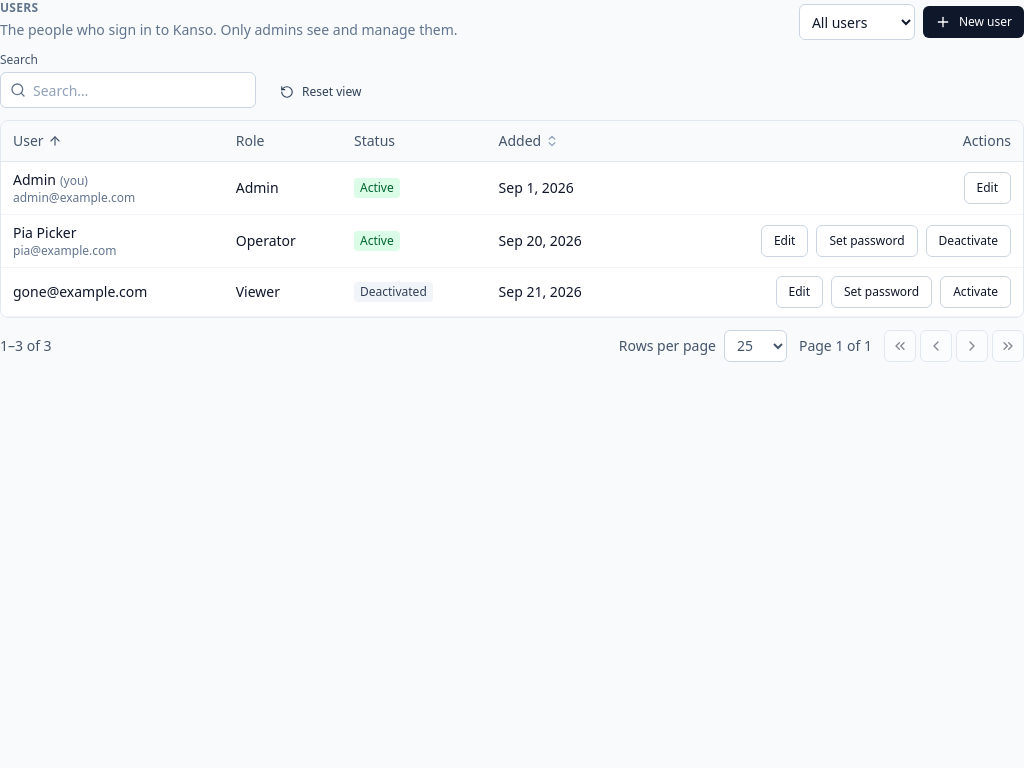
Scenario: User settings › explains a refused deactivation in words
The width and height of the screenshot is (1024, 768).
Click the button with aria-label "Deactivate Pia Picker" at (968,240), box left=926, top=224, right=1011, bottom=256
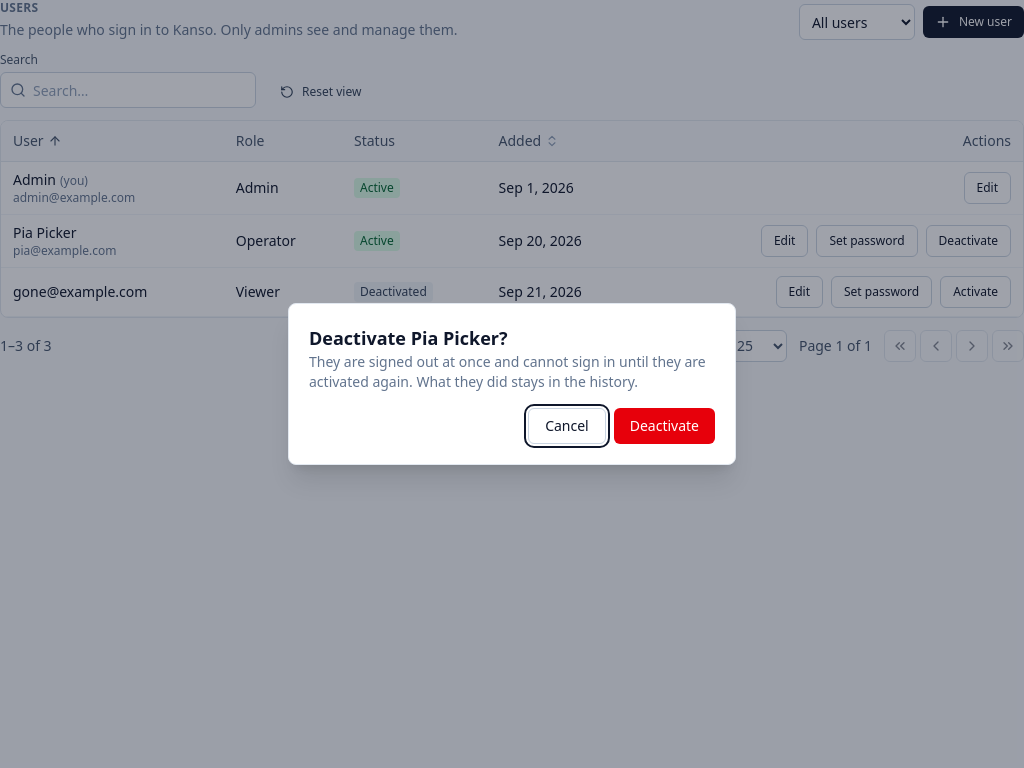
Click the button "Deactivate" at (664,426), box left=614, top=408, right=715, bottom=444
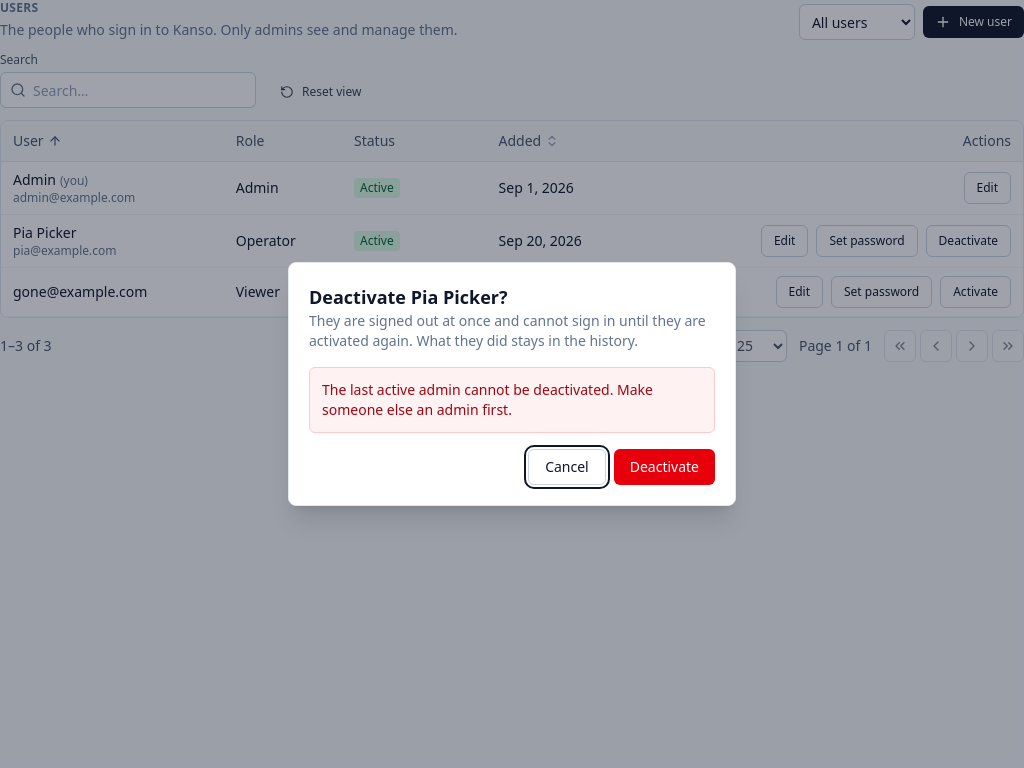
expect the text "The last active admin cannot be deactivated. Make someone else an admin first." is shown: met, box left=309, top=367, right=715, bottom=433
